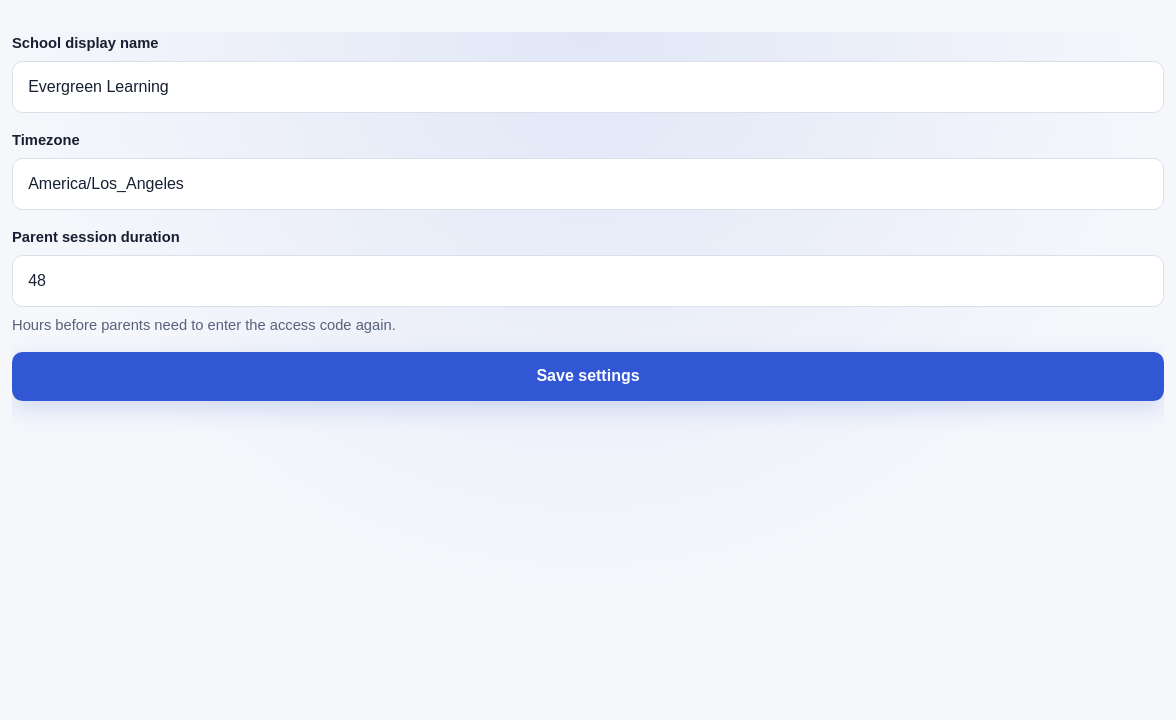
it: administrator settings forms › preserves settings values, focuses an announced summary, and renders field errors
The image size is (1176, 720).
Replace the text in the field labelled "School display name" with "Updated School" at (588, 87), box [12,61,1164,113]
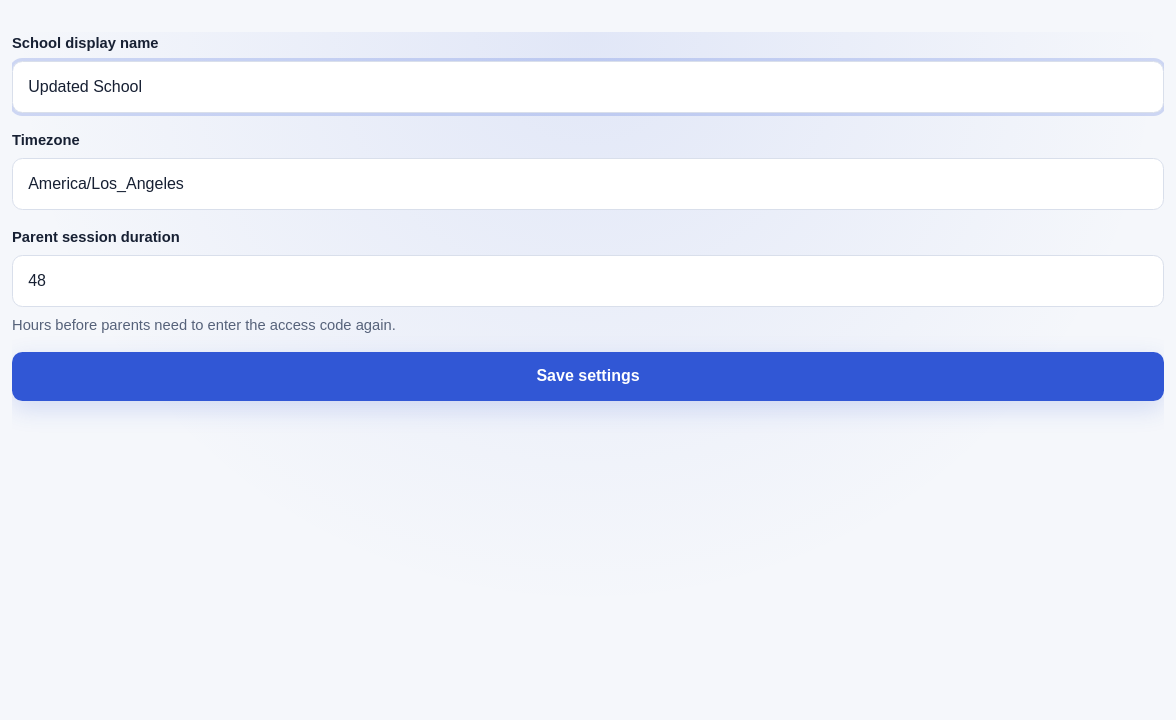
Replace the text in the field labelled "Timezone" with "Mars/Base" at (588, 184), box [12,158,1164,210]
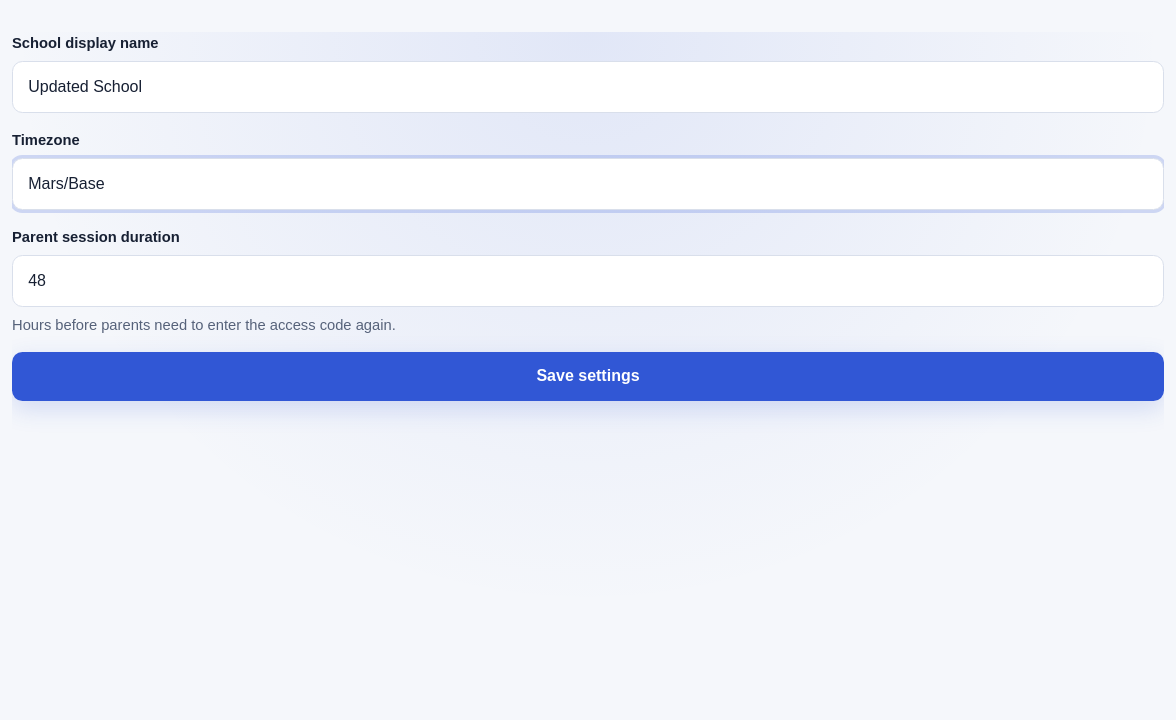
Click the button "Save settings" at (588, 376), box [12,352,1164,401]
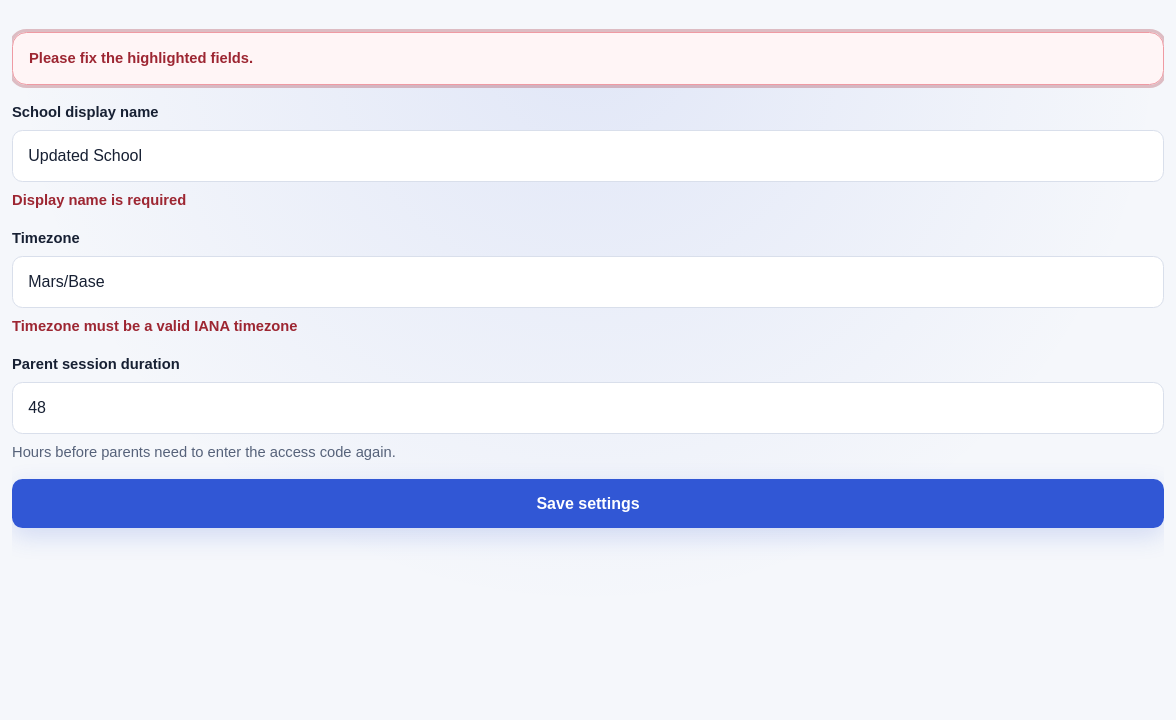
Now the message reads "Please fix the highlighted fields.", box [29,50,253,66]
Now the text "Display name is required" is shown, box [12,192,186,208]
Now the text "Timezone must be a valid IANA timezone" is shown, box [12,318,298,334]
